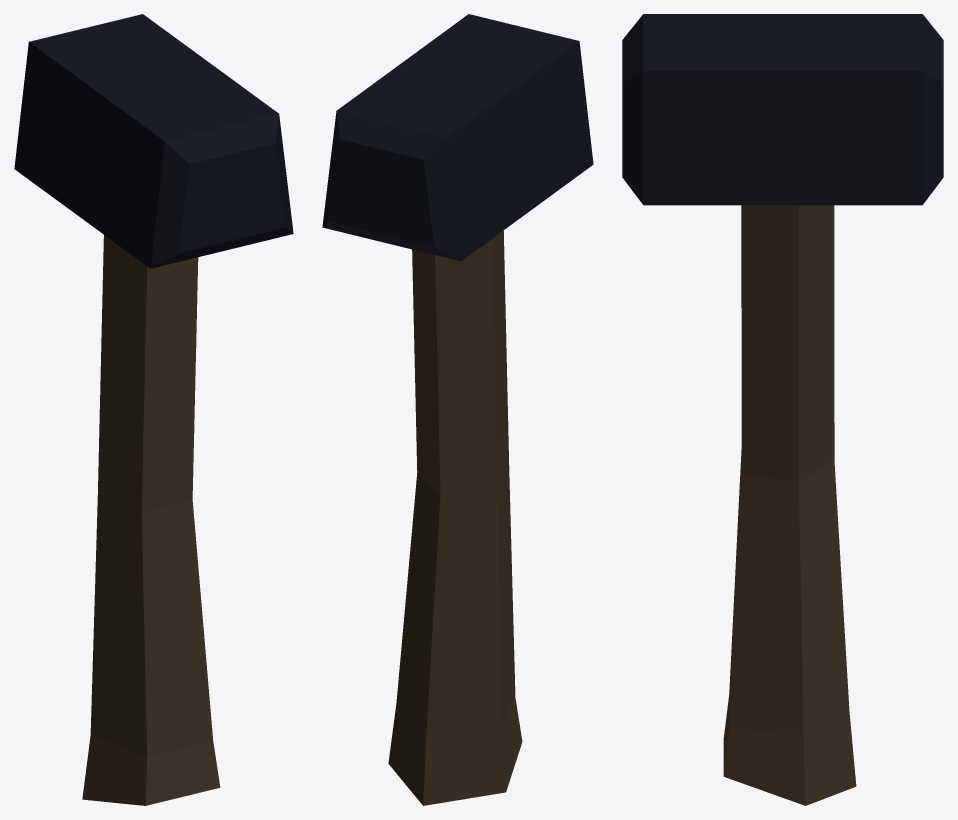
Rendered from HammerD.fbx.
3 views of the same model, side by side, from view 1: azimuth 30°, elevation 25°; view 2: azimuth 150°, elevation 25°; view 3: azimuth 270°, elevation 25° (orthographic). The views are drawn at different scales.
Visible parts, largest first — view 1: HammerD; view 2: HammerD; view 3: HammerD.
Boxes of the visible parts, <box> form: HammerD: <box>14,14,293,805</box>; HammerD: <box>322,14,593,805</box>; HammerD: <box>622,14,943,805</box>.
Bounding box in the file's own units: 9.19 × 44.55 × 17.44.
